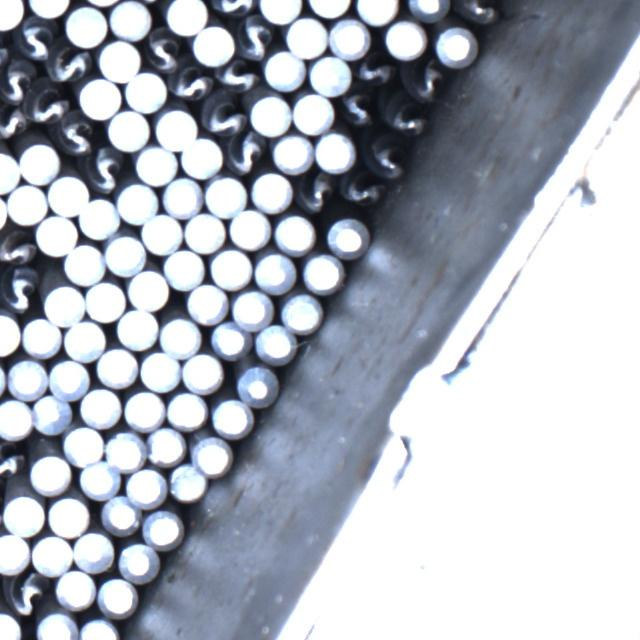tool: (105, 107, 152, 150), (247, 91, 291, 135), (203, 172, 247, 216), (77, 75, 121, 119), (327, 16, 372, 59), (34, 211, 76, 256), (249, 169, 292, 212), (290, 92, 333, 135), (29, 453, 73, 495), (382, 18, 427, 59), (227, 207, 270, 249), (208, 246, 250, 289), (72, 530, 115, 572), (163, 247, 206, 289), (252, 250, 294, 293), (123, 465, 166, 507), (2, 493, 45, 535), (98, 37, 140, 80), (274, 212, 316, 255), (180, 135, 222, 178), (58, 424, 103, 464), (62, 318, 104, 360), (285, 14, 327, 56), (42, 283, 84, 325), (270, 131, 312, 173), (185, 282, 227, 324), (21, 317, 63, 359), (432, 24, 474, 66), (307, 54, 350, 95), (181, 352, 224, 393), (84, 277, 125, 320), (126, 268, 167, 311), (30, 533, 71, 575), (6, 358, 47, 400), (54, 568, 96, 609), (48, 494, 89, 536), (280, 290, 322, 331), (116, 308, 157, 350), (116, 180, 157, 222), (154, 106, 196, 147), (104, 428, 144, 471), (64, 242, 104, 285), (124, 71, 167, 111), (325, 218, 368, 258), (122, 389, 163, 430), (80, 386, 121, 427), (97, 346, 138, 387), (184, 210, 225, 251), (64, 4, 105, 45), (302, 252, 343, 293), (48, 356, 88, 398), (263, 49, 305, 89), (6, 182, 46, 224), (103, 234, 143, 276), (314, 130, 354, 172), (161, 175, 201, 216), (136, 144, 177, 184), (140, 213, 181, 253), (79, 199, 120, 239), (78, 460, 120, 499), (139, 350, 179, 390), (231, 287, 271, 327), (100, 495, 140, 535), (235, 364, 275, 404), (144, 426, 185, 465), (159, 316, 200, 355), (192, 25, 233, 64), (254, 323, 295, 362), (210, 397, 251, 436), (19, 142, 58, 183), (97, 576, 137, 615), (31, 393, 70, 433), (166, 390, 206, 429), (49, 174, 88, 214), (142, 508, 181, 548), (209, 320, 250, 358), (117, 541, 158, 579), (110, 0, 151, 38), (191, 435, 230, 473), (168, 463, 207, 501), (165, 0, 207, 34), (0, 396, 32, 439), (35, 608, 78, 640), (0, 531, 28, 574), (258, 0, 302, 24), (356, 0, 398, 23), (78, 617, 118, 640), (407, 0, 449, 21), (0, 311, 20, 355), (0, 149, 19, 193), (307, 0, 350, 17), (0, 0, 24, 30), (27, 0, 69, 16)
tool_b: (41, 44, 95, 84), (4, 572, 48, 618), (293, 173, 338, 215), (222, 135, 266, 177), (200, 100, 248, 137), (84, 149, 124, 193), (143, 29, 183, 73), (236, 16, 276, 60), (52, 113, 90, 159), (212, 60, 262, 94), (384, 99, 427, 138), (12, 20, 54, 59), (1, 269, 38, 313), (367, 140, 405, 182), (338, 173, 382, 209), (167, 69, 213, 103), (0, 62, 33, 107), (25, 88, 67, 121), (0, 229, 36, 267), (408, 66, 447, 101), (340, 90, 376, 127), (356, 52, 393, 85), (457, 0, 499, 26), (211, 0, 257, 19), (0, 439, 22, 478), (0, 104, 26, 137)
